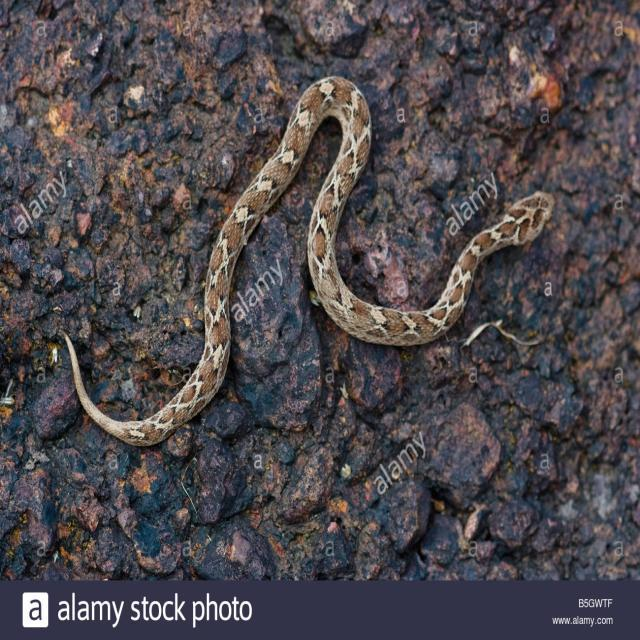Snake: (56, 71, 558, 456)
